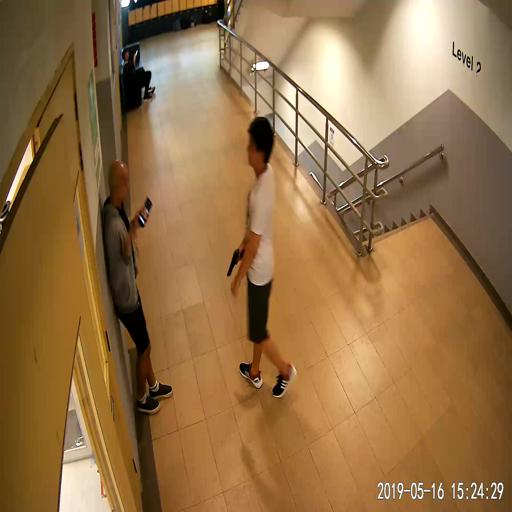pistol: (226, 247, 244, 275)
